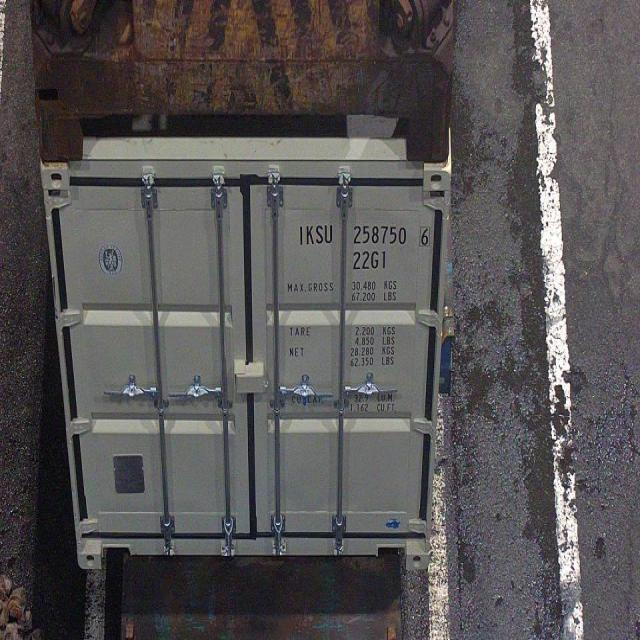ISO: (354, 250, 389, 270)
container_number: (298, 222, 428, 248)
